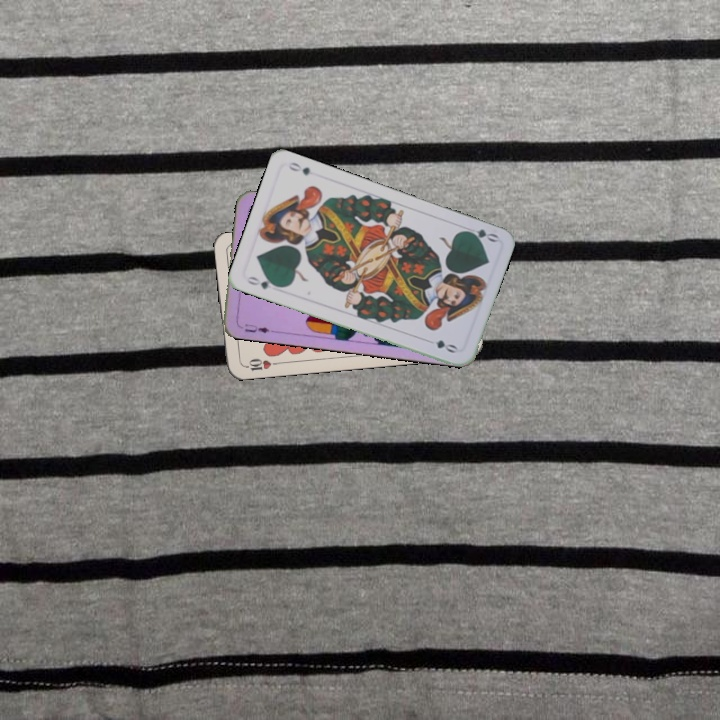EU: (241, 319, 275, 335)
GO: (460, 223, 501, 245), (243, 272, 283, 292)
H10: (239, 354, 280, 374)
